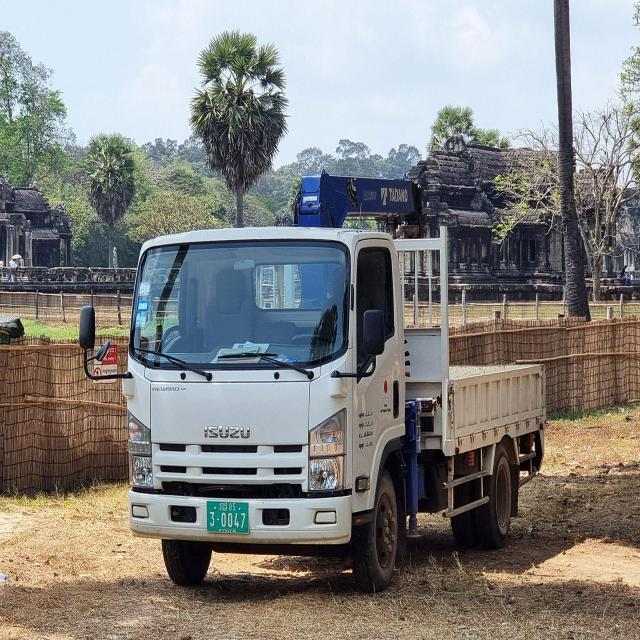State: (219, 502, 228, 512)
